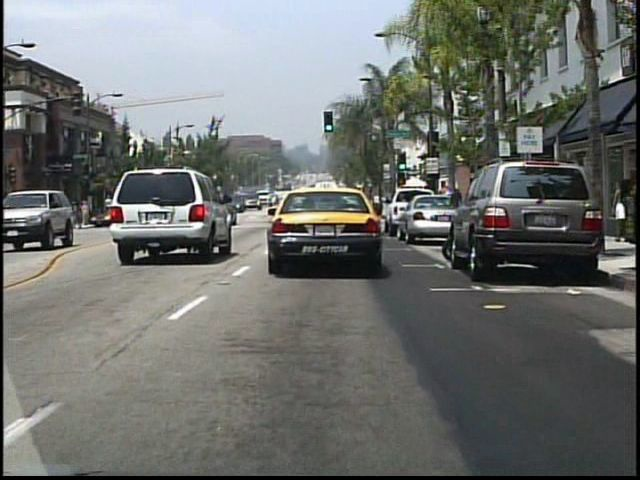person: (610, 181, 633, 243)
